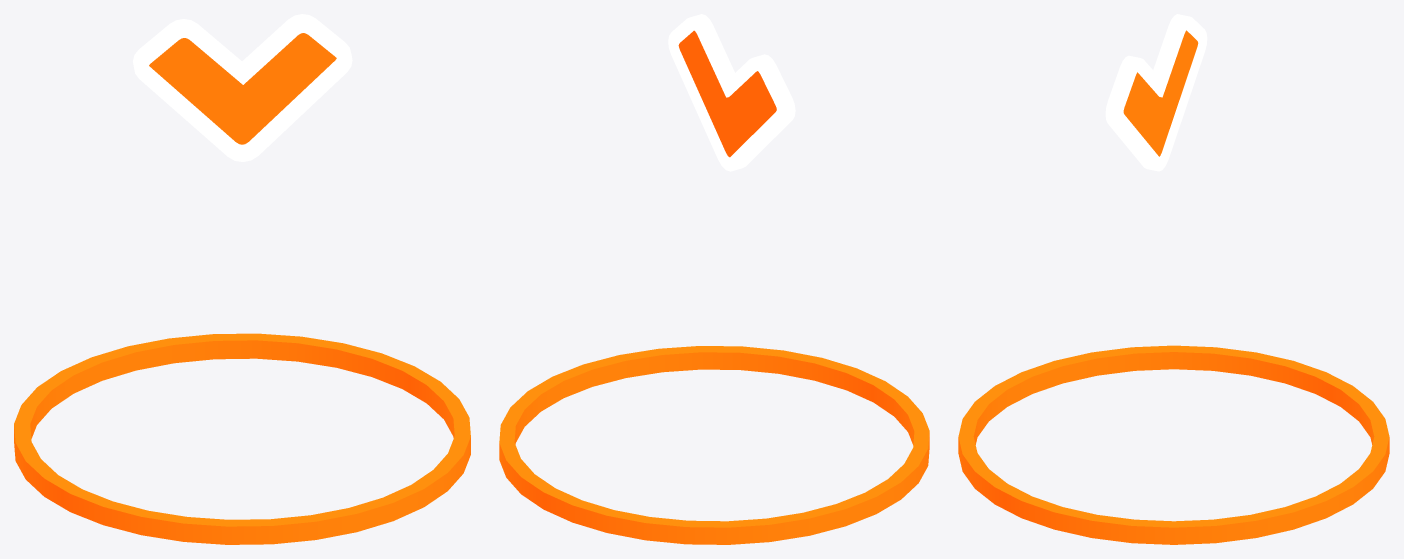
The model's file is orangePod.glb.
The picture shows the model from 3 angles, left to right: view 1: azimuth 30°, elevation 25°; view 2: azimuth 150°, elevation 25°; view 3: azimuth 270°, elevation 25°; orthographic projection. The views are drawn at different scales.
Visible parts, largest first — view 1: orangePod; view 2: orangePod; view 3: orangePod.
Boxes of the visible parts, left/top/right/bottom form: orangePod: left=14, top=14, right=470, bottom=544; orangePod: left=499, top=14, right=929, bottom=544; orangePod: left=958, top=14, right=1389, bottom=544.
Bounding box in the file's own units: 6.59 × 6.96 × 6.59.
